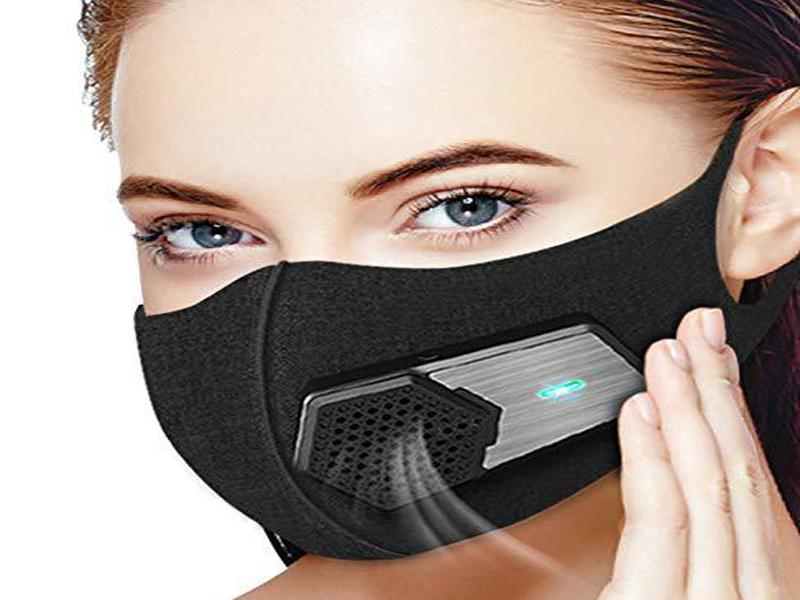with_mask: (98, 1, 800, 568)
